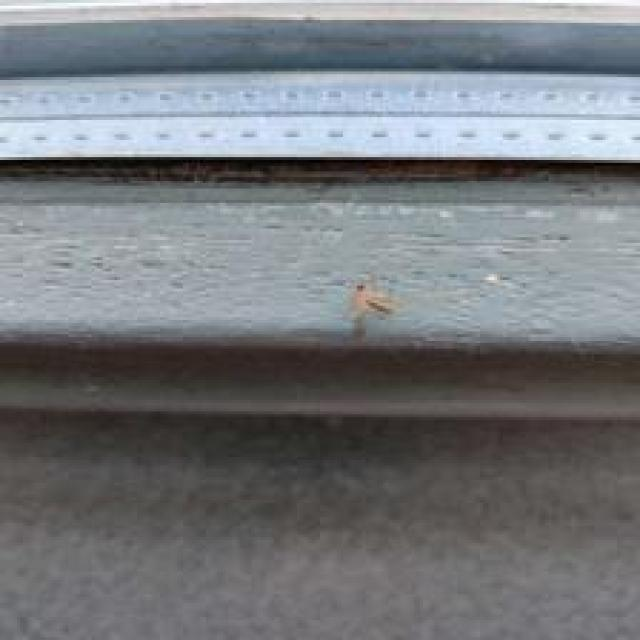Culex: (347, 282, 396, 322)
